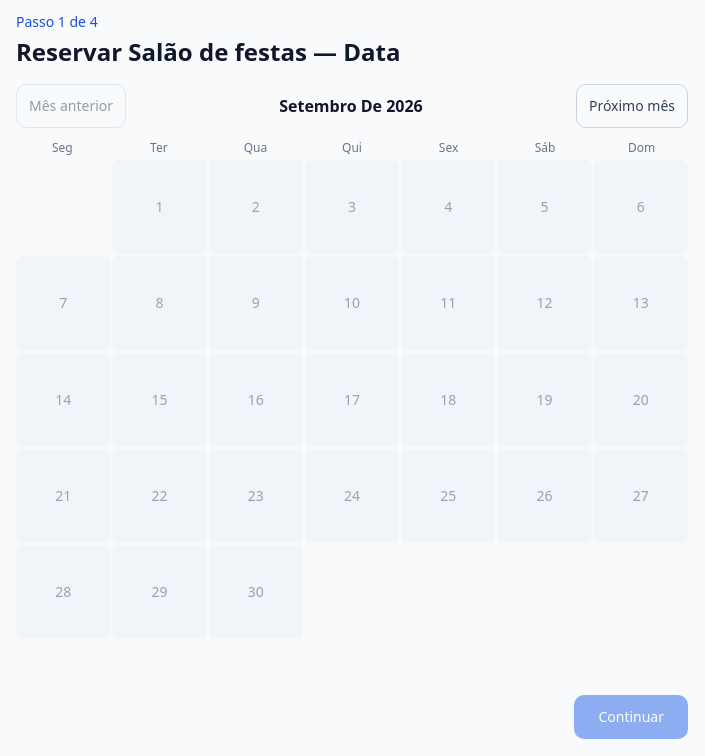
Scenario: ReservationWizardPage (RF-RES-02/03, RNF-05) › dia não reservável mostra o motivo ao tocar (RN-20)
Click the button named "16, não disponível: Reservas para amanhã só podem ser feitas entre 06:00 e 16:00.". click: (256, 400)
box: 209,353 -> 303,447
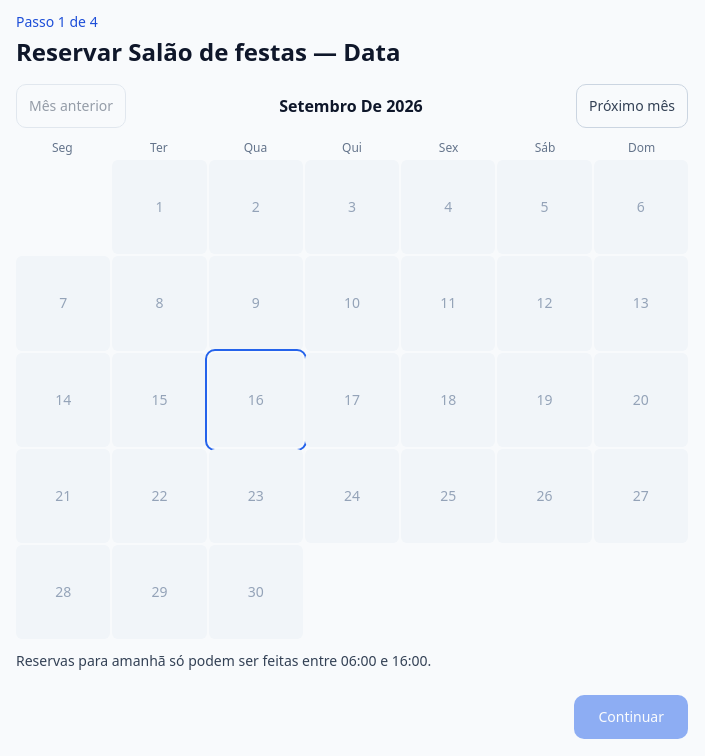
Expected: the text "Passo 1 de 4" is shown, 16,12 -> 98,31
Expected: the text "Reservas para amanhã só podem ser feitas entre 06:00 e 16:00." is shown, 16,652 -> 431,670
